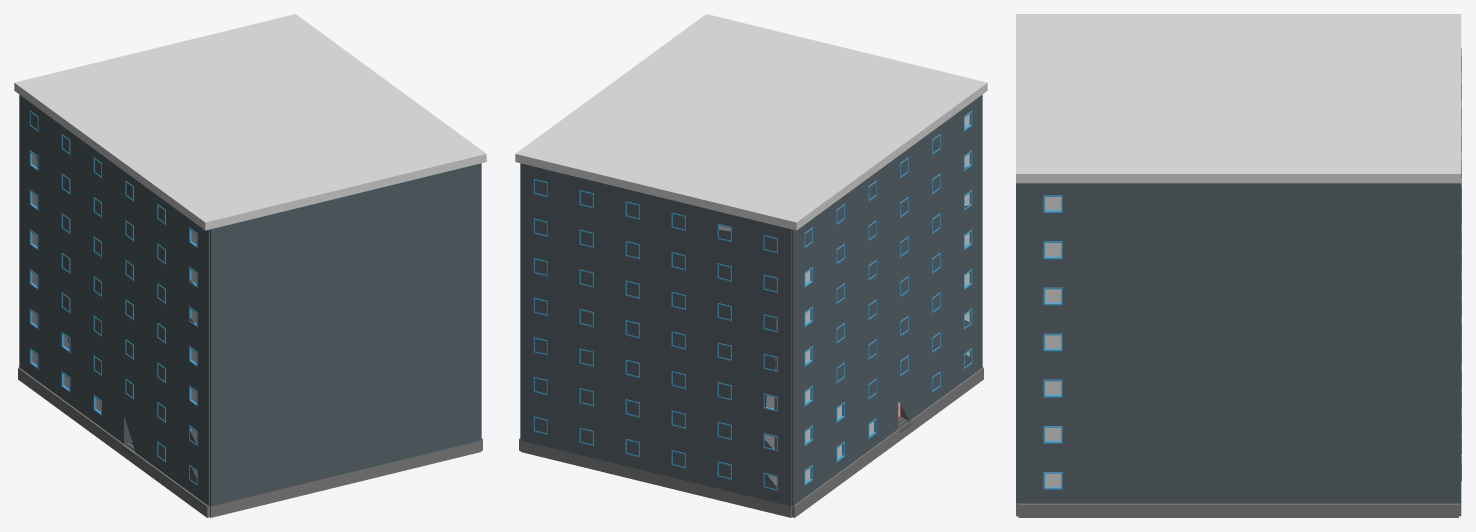
The model's file is BCC30_F07_02.fbx.
3 renders of one model, left to right at view 1: azimuth 30°, elevation 25°; view 2: azimuth 150°, elevation 25°; view 3: azimuth 270°, elevation 25°, orthographic. The views are drawn at different scales.
Visible parts, largest first — view 1: BCC30_F07_02; view 2: BCC30_F07_02; view 3: BCC30_F07_02.
Boxes of the visible parts, box(x1,y1,x2,y2) form: BCC30_F07_02: box(14, 14, 486, 517); BCC30_F07_02: box(515, 14, 987, 517); BCC30_F07_02: box(1016, 14, 1461, 517).
Bounding box in the file's own units: 2550 × 2570 × 3005.
